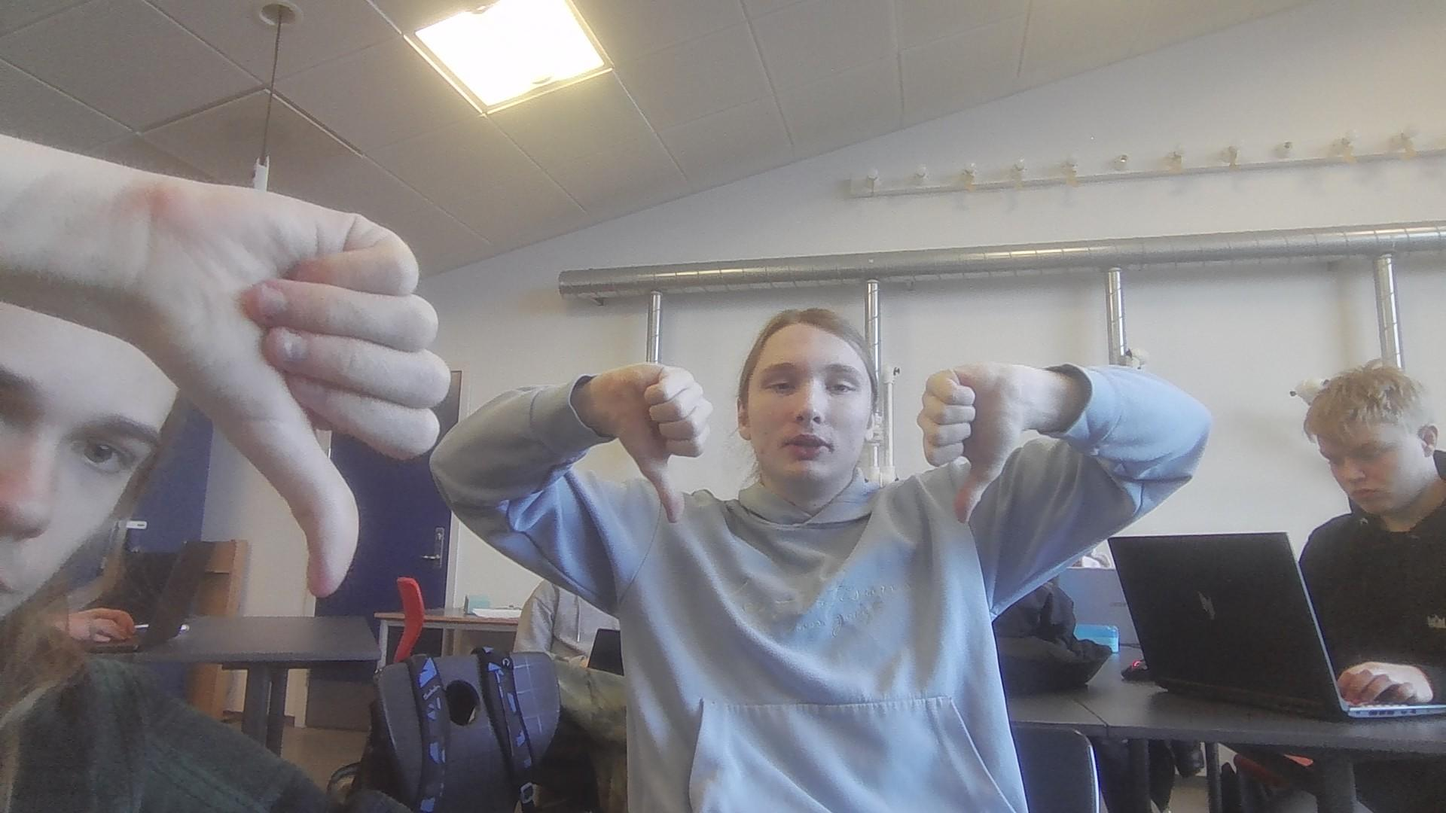thumbs down: (149, 179, 441, 606), (562, 359, 721, 527), (915, 348, 1033, 532)
